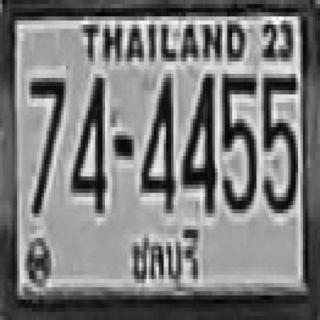N04: (68, 74, 105, 209), (181, 70, 215, 209), (139, 72, 173, 207)
N05: (261, 70, 296, 209), (220, 70, 254, 209)
N07: (28, 74, 65, 213)
P13: (125, 224, 204, 288)
